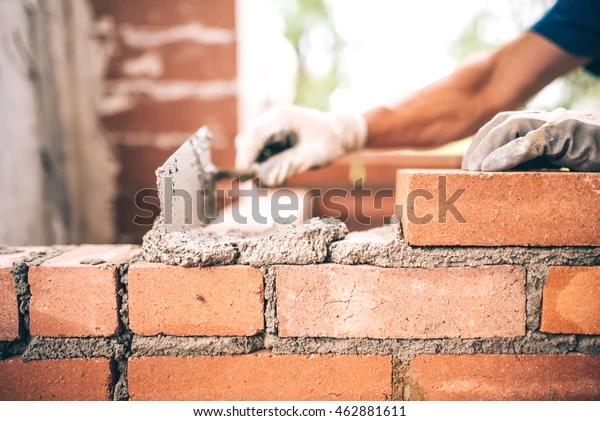Bricks: (277, 268, 523, 336), (397, 170, 600, 246), (131, 359, 392, 399), (127, 267, 265, 334), (411, 356, 600, 398), (29, 264, 118, 338), (0, 359, 110, 402), (547, 268, 600, 335), (2, 271, 16, 343)
